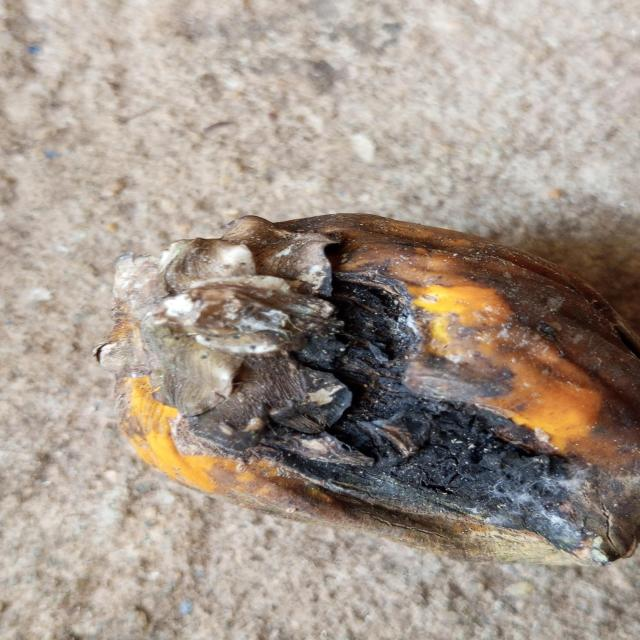damaged: (94, 215, 640, 564)
